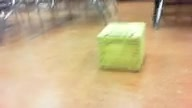cube: (97, 22, 146, 72)
